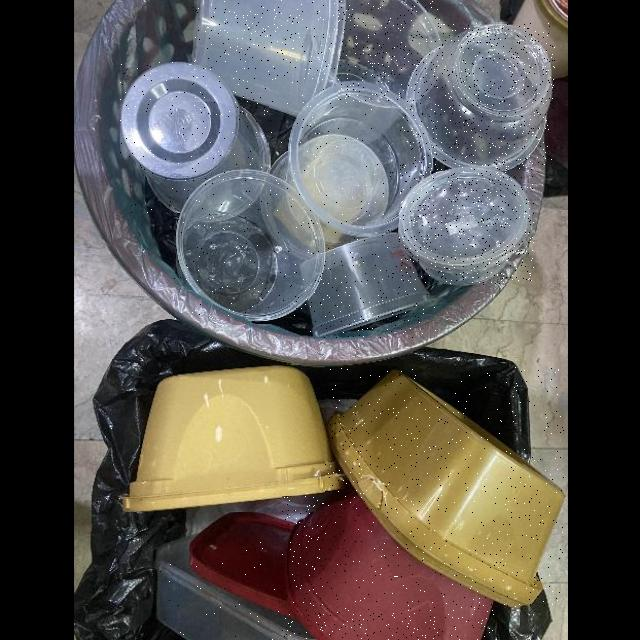plastic: (325, 366, 564, 607), (122, 364, 343, 511), (282, 496, 494, 640), (269, 81, 433, 250), (175, 168, 325, 321), (121, 62, 268, 214), (407, 23, 555, 170), (193, 0, 347, 114), (154, 532, 316, 640), (400, 164, 534, 285), (309, 232, 437, 337), (338, 0, 441, 101)
